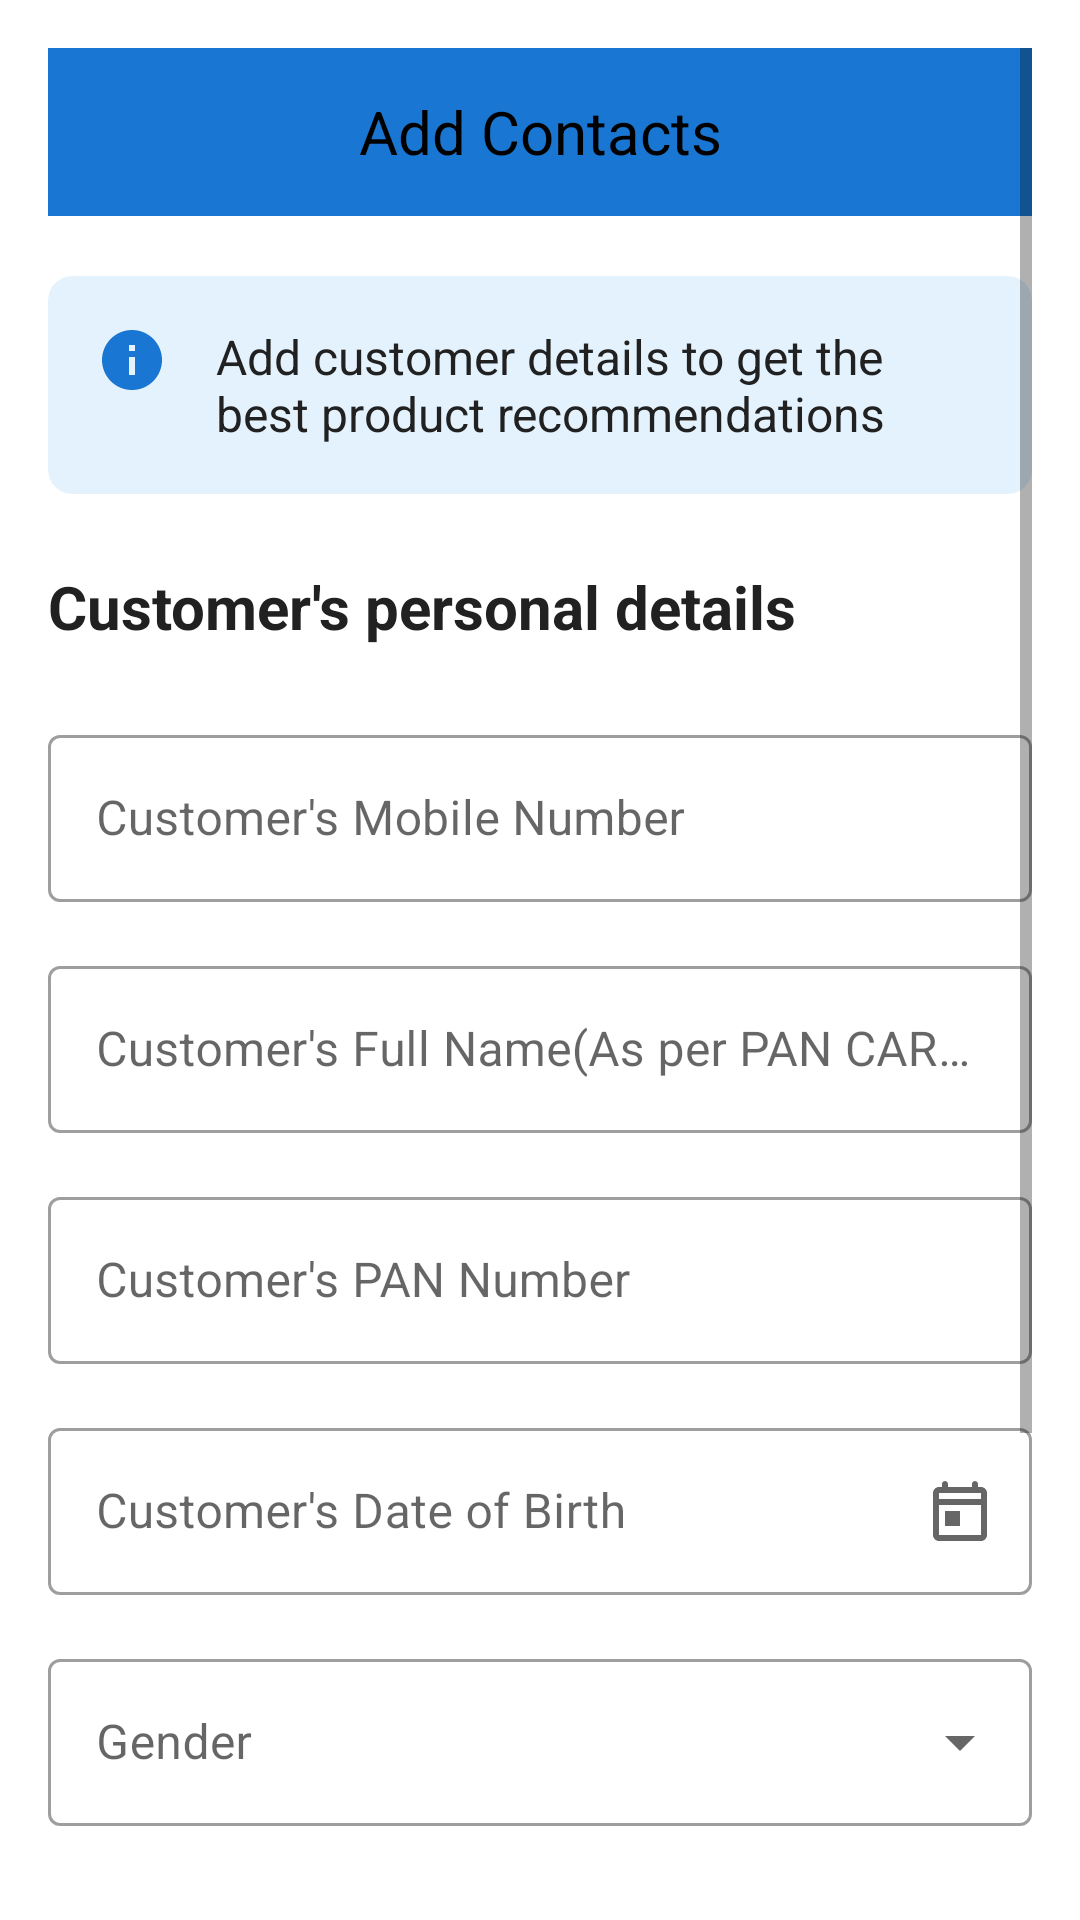

Screen size 1080w x 1920h. Icon name, then its box in pixels as (left=x1, top=y1, right=x2, bottom=y2):
info: (left=102, top=330, right=162, bottom=390)
